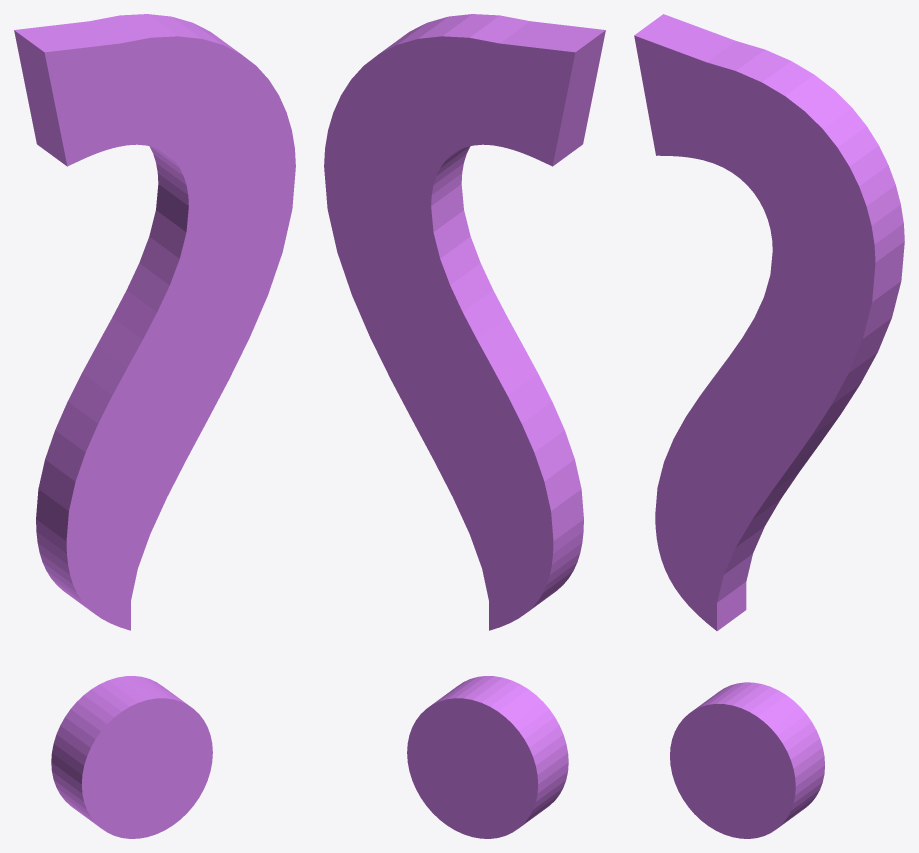
File: question-mark.glb
3 renders of one model, left to right at view 1: azimuth 30°, elevation 25°; view 2: azimuth 150°, elevation 25°; view 3: azimuth 330°, elevation 25°, orthographic. The views are drawn at different scales.
Parts seen in each view (by area): view 1: Text; view 2: Text; view 3: Text.
Boxes of the visible parts, x1,y1,x2,y2 form: Text: (14,14,295,838); Text: (324,14,605,838); Text: (634,14,904,838).
Size of the model in its own units: 0.4494 by 1.38 by 0.0946.
